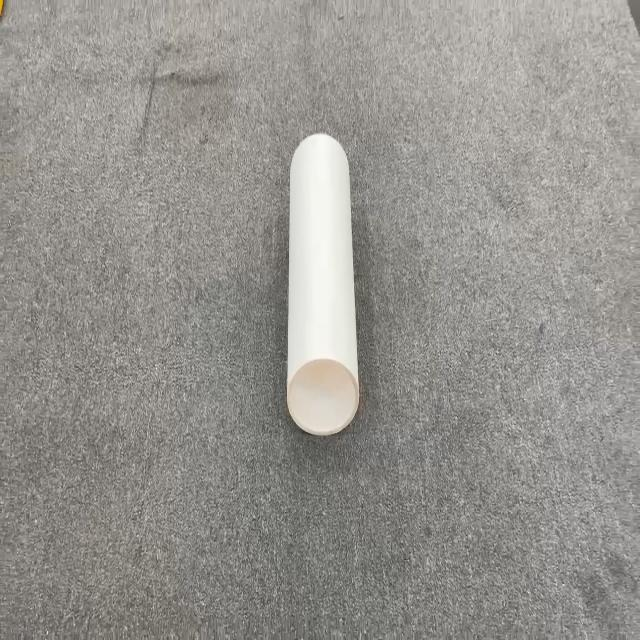coral: (286, 132, 360, 436)
